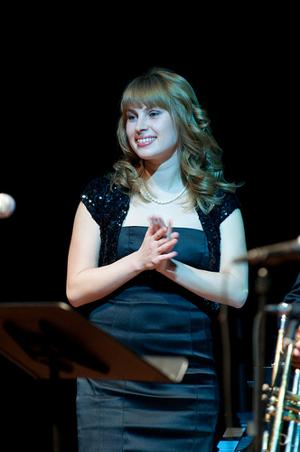person: (65, 67, 249, 452)
